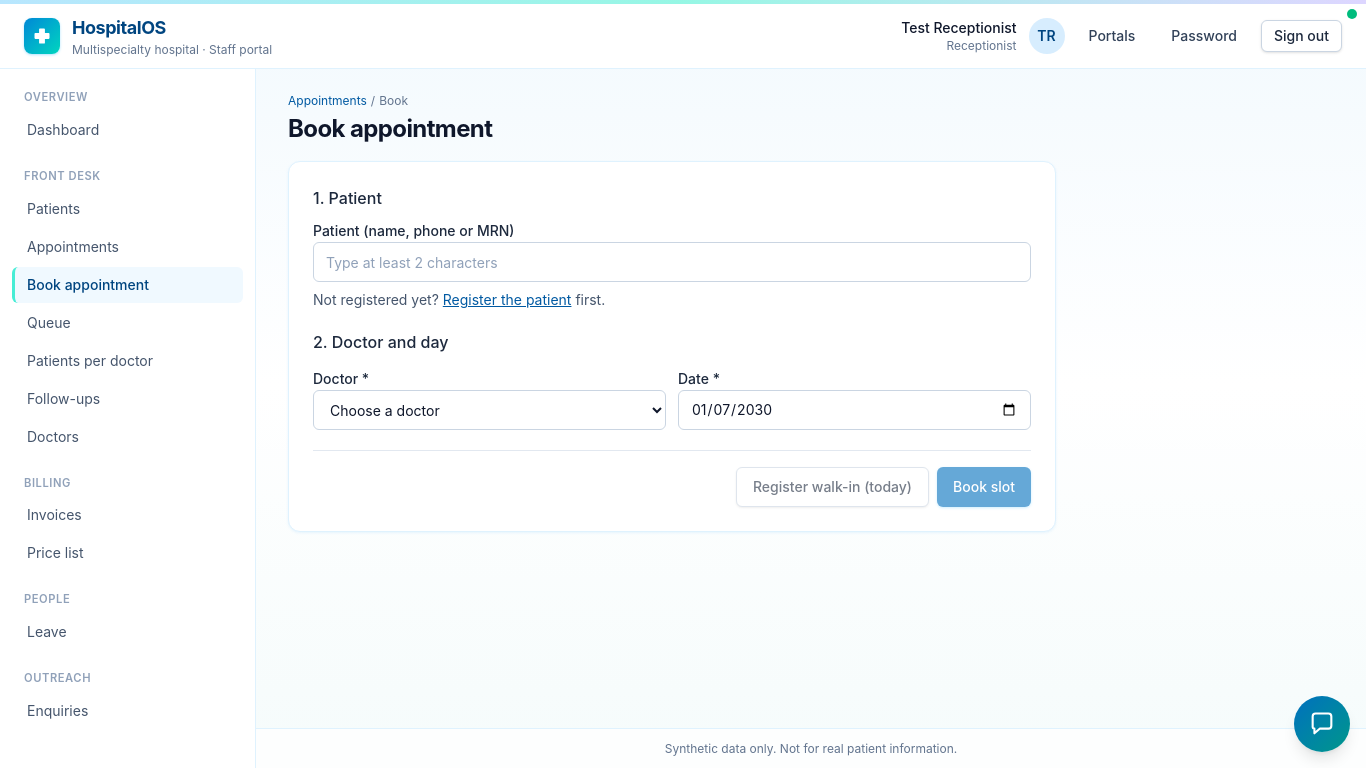
booking › books an available slot for a chosen patient and doctor
Type "zz" into the search field labelled "Patient (name, phone or MRN)" at x=672, y=262, box [313,242,1031,282]
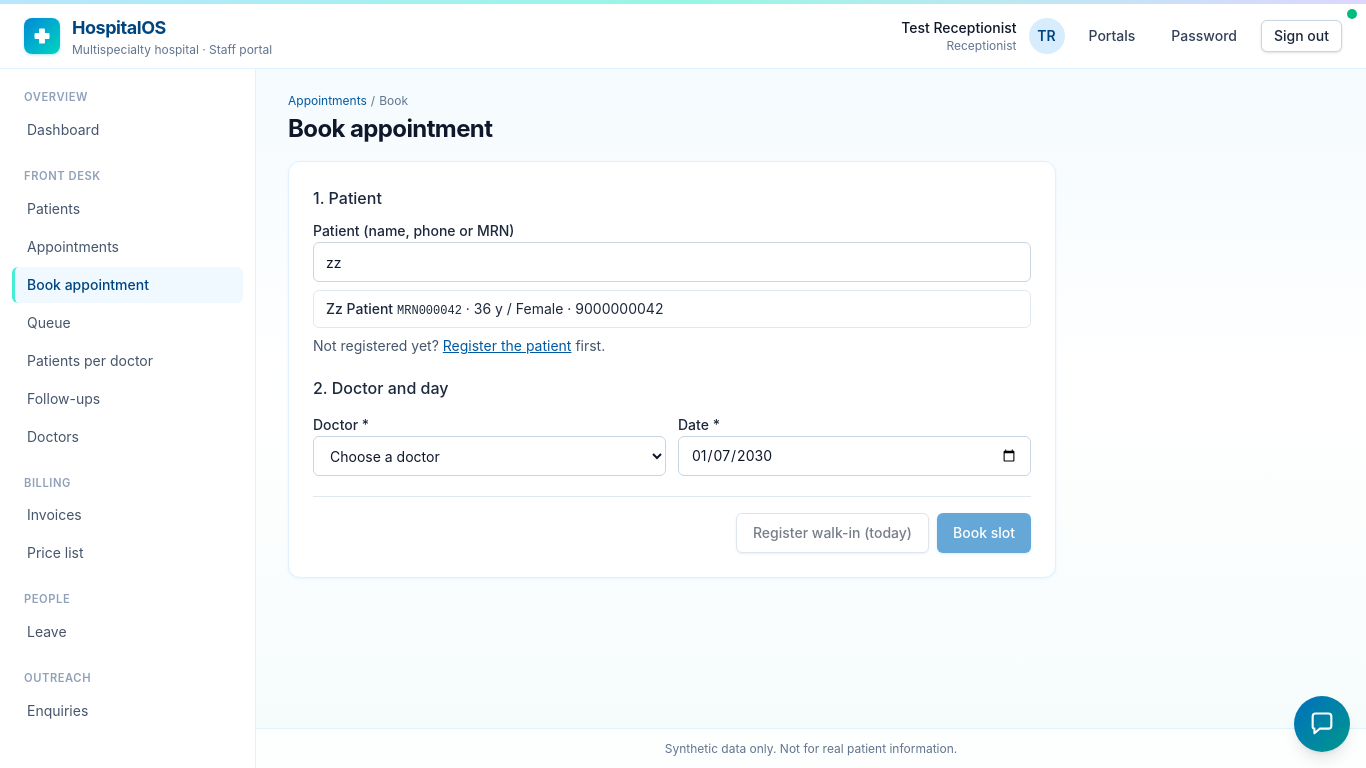
Click the button "Zz Patient MRN000042 · 36 y / Female · 9000000042" at x=360, y=308, box [314,291,1030,327]
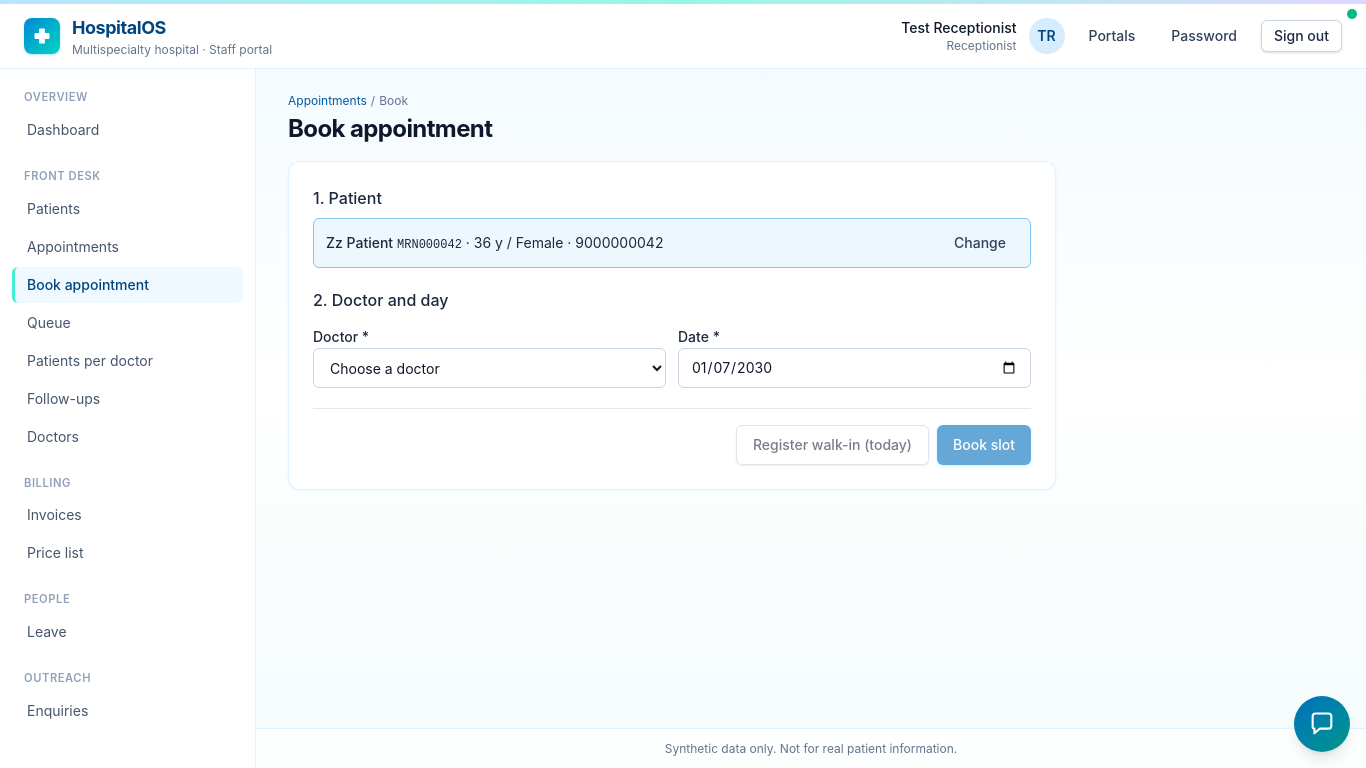
Select "Dr. Zz Test — General Medicine (GP)" in the dropdown labelled "Doctor" at x=490, y=368, box [313,348,666,388]
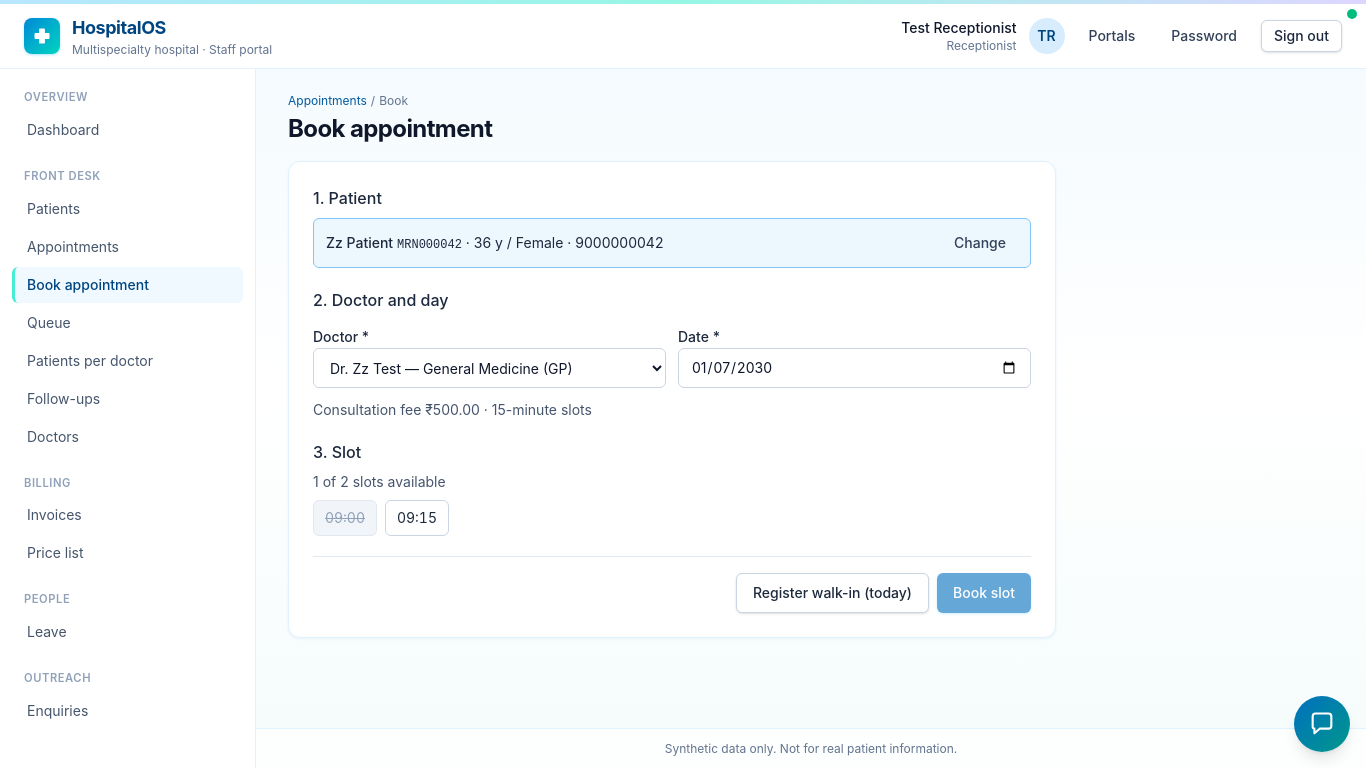
Expected: the radio button labelled "09:00" is disabled, [313,500,377,536]
Click the radio button labelled "09:15" at x=417, y=518, box [385,500,449,536]
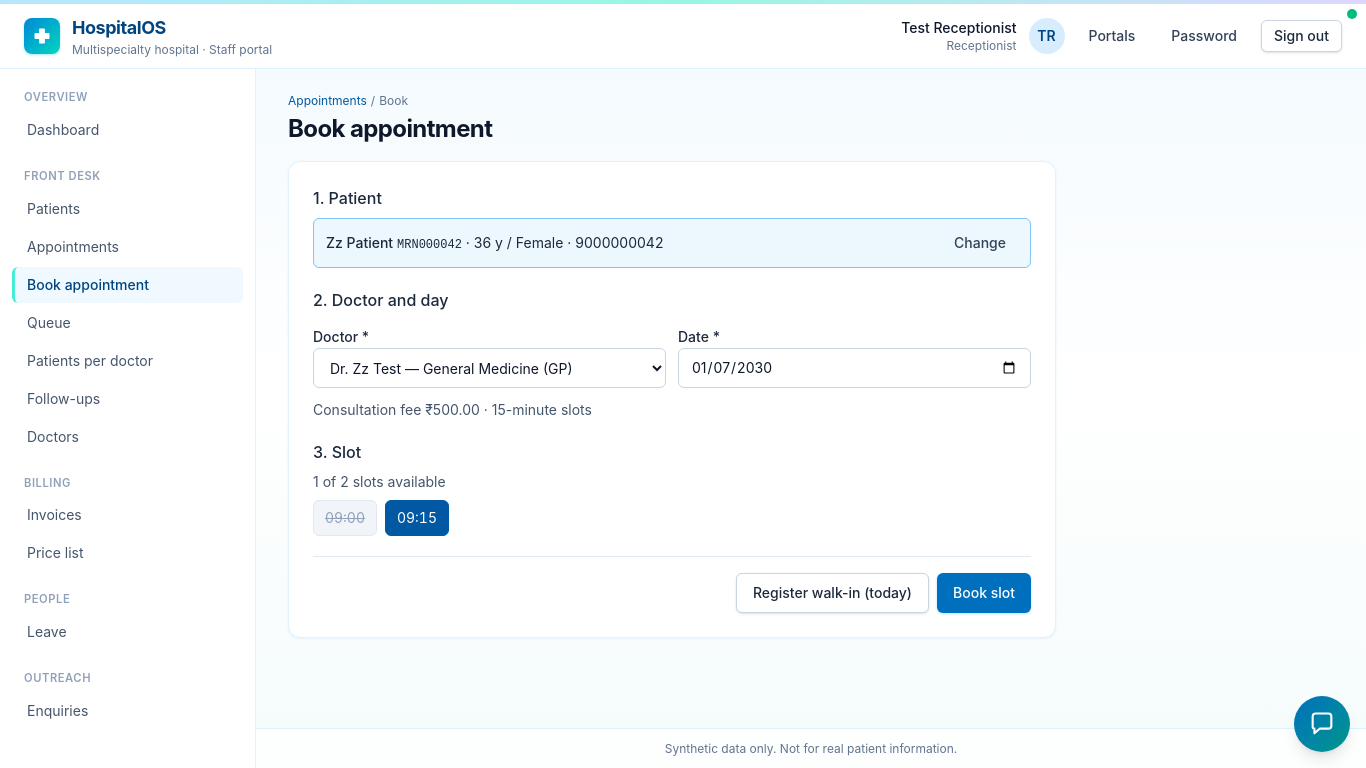
Click the button "Book slot" at x=984, y=593, box [937,573,1031,613]
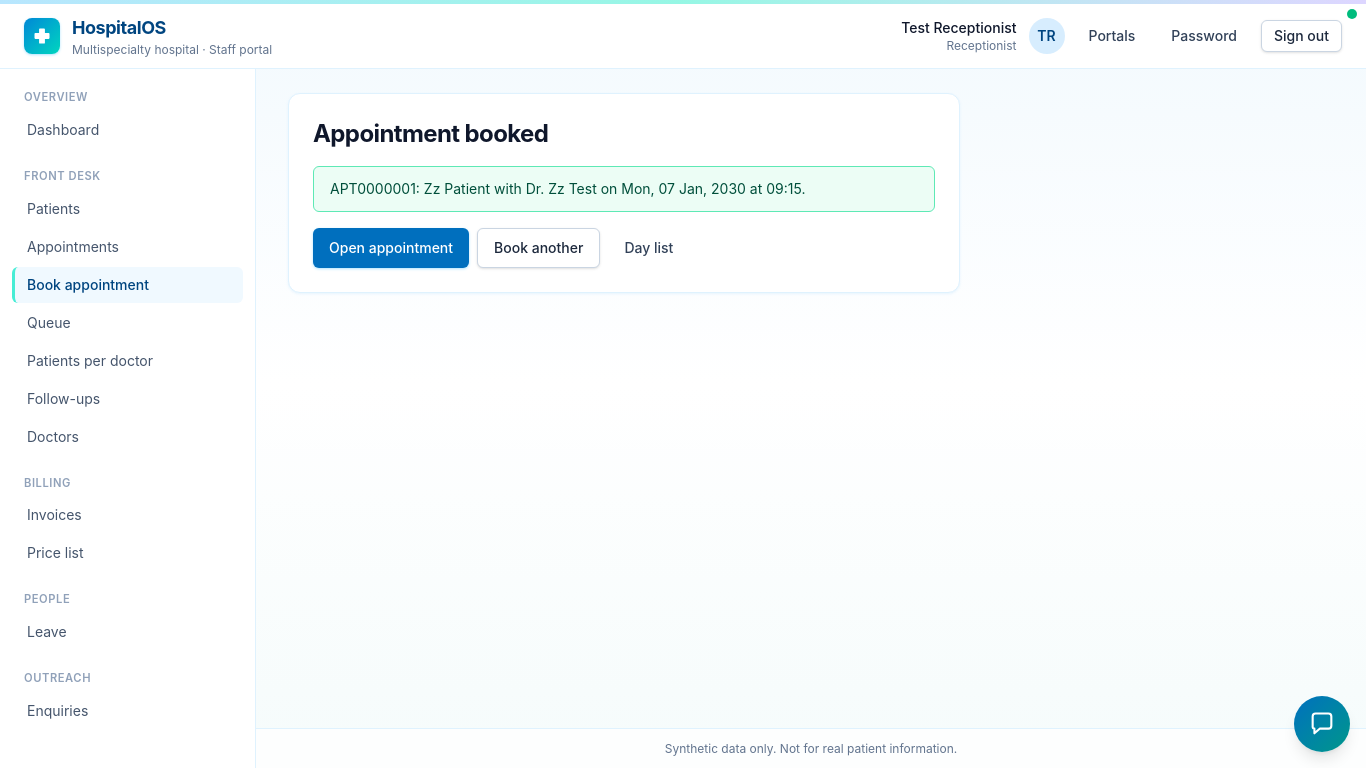
Expected: the text "APT0000001: Zz Patient with Dr. Zz Test on Mon, 07 Jan, 2030 at 09:15." is shown, [313,166,935,212]
